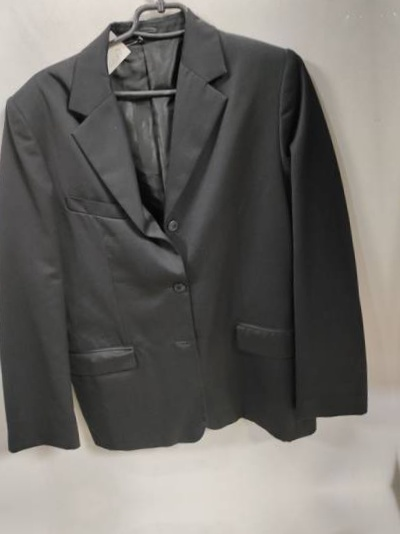Blazer: (0, 13, 349, 466), (2, 532, 379, 534)
